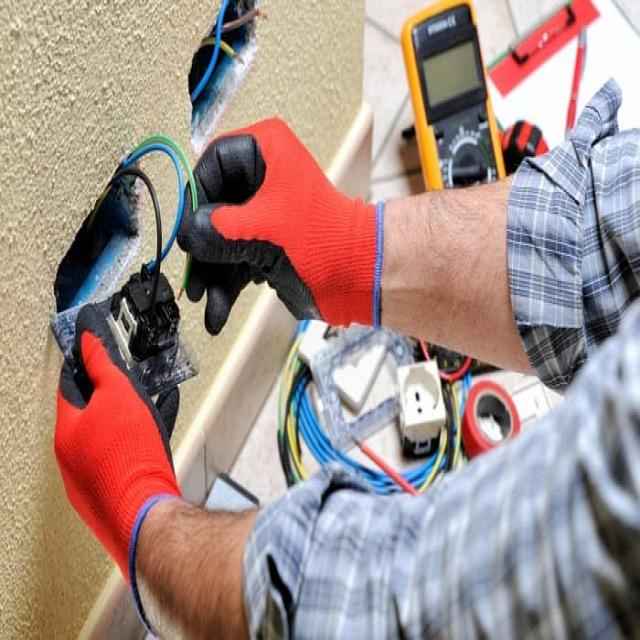gloves: (175, 116, 385, 340), (50, 328, 182, 640)
